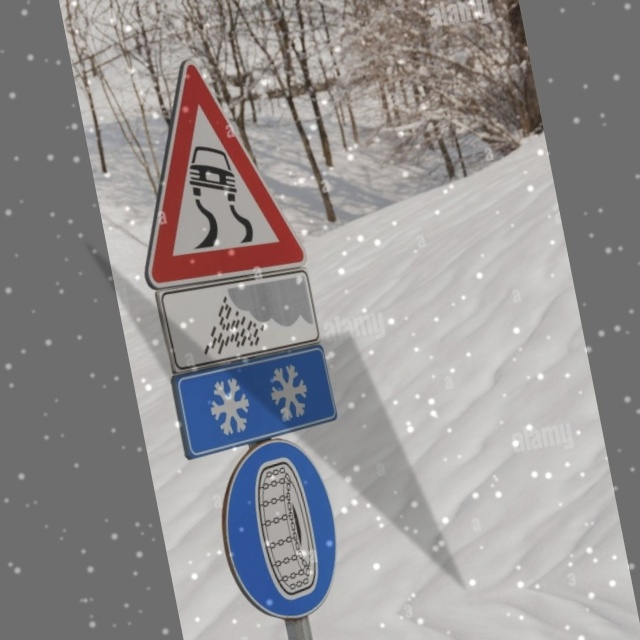Slippery_Road: (118, 42, 311, 293)
